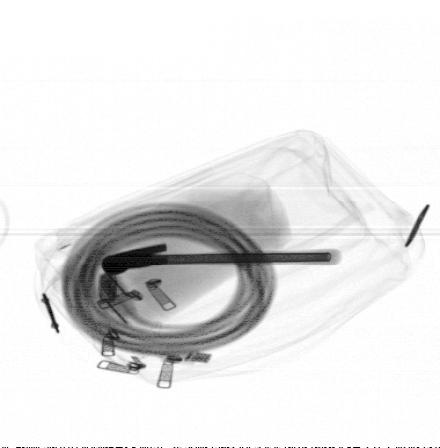Hammer: (100, 243, 342, 275)
